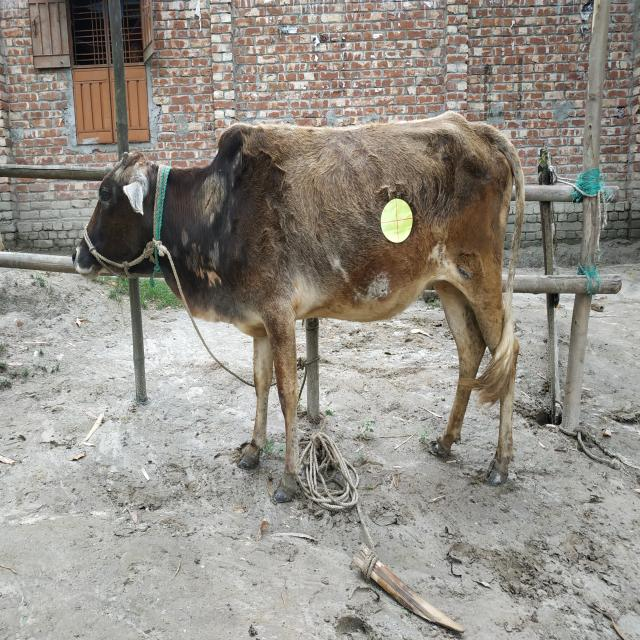badan_sapi: (223, 129, 512, 319)
sapi: (75, 127, 533, 512)
